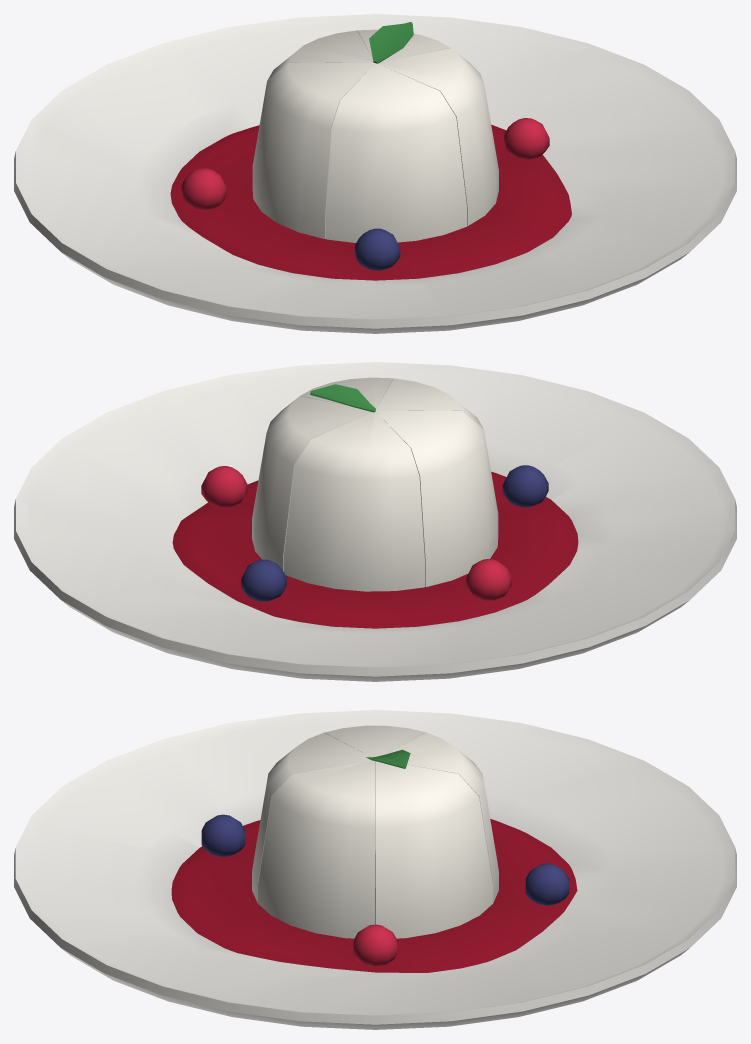
Rendered from dish-panna-cotta-lod1.glb.
The picture shows the model from 3 angles, top to bottom: view 1: azimuth 30°, elevation 25°; view 2: azimuth 150°, elevation 25°; view 3: azimuth 270°, elevation 25°; orthographic projection.
Parts seen in each view (by area): view 1: panna-cotta.lod1__table porcelain, panna-cotta.lod1__food glaze, panna-cotta.lod1__food; view 2: panna-cotta.lod1__table porcelain, panna-cotta.lod1__food glaze, panna-cotta.lod1__food; view 3: panna-cotta.lod1__table porcelain, panna-cotta.lod1__food glaze.
Boxes of the visible parts, x1,y1,x2,y2 form: panna-cotta.lod1__table porcelain: [14, 14, 736, 333]; panna-cotta.lod1__food glaze: [170, 29, 571, 280]; panna-cotta.lod1__food: [369, 22, 413, 63]; panna-cotta.lod1__table porcelain: [14, 362, 736, 681]; panna-cotta.lod1__food glaze: [172, 377, 578, 628]; panna-cotta.lod1__food: [310, 384, 375, 412]; panna-cotta.lod1__table porcelain: [14, 710, 736, 1029]; panna-cotta.lod1__food glaze: [171, 725, 577, 972].
Size of the model in its own units: 0.2 by 0.0566 by 0.1989.
